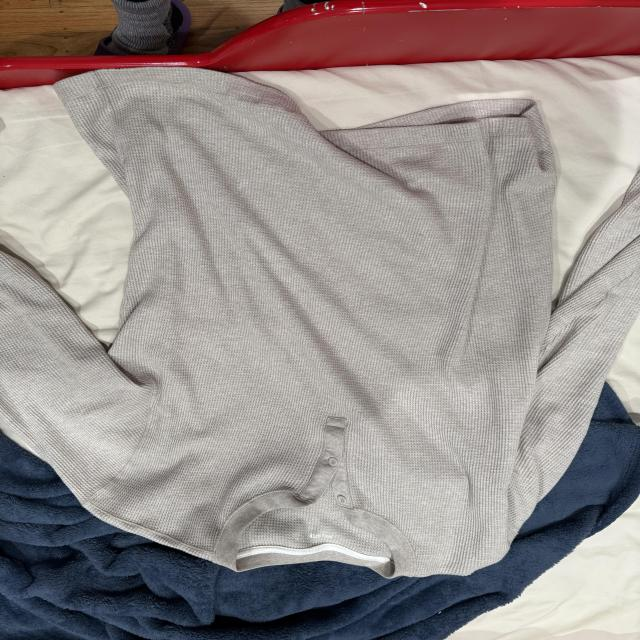back_tag: (286, 527, 339, 545)
